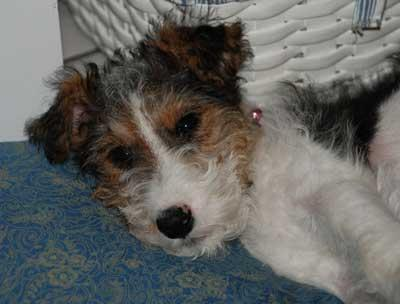wire-haired_fox_terrier: (24, 25, 399, 297)
